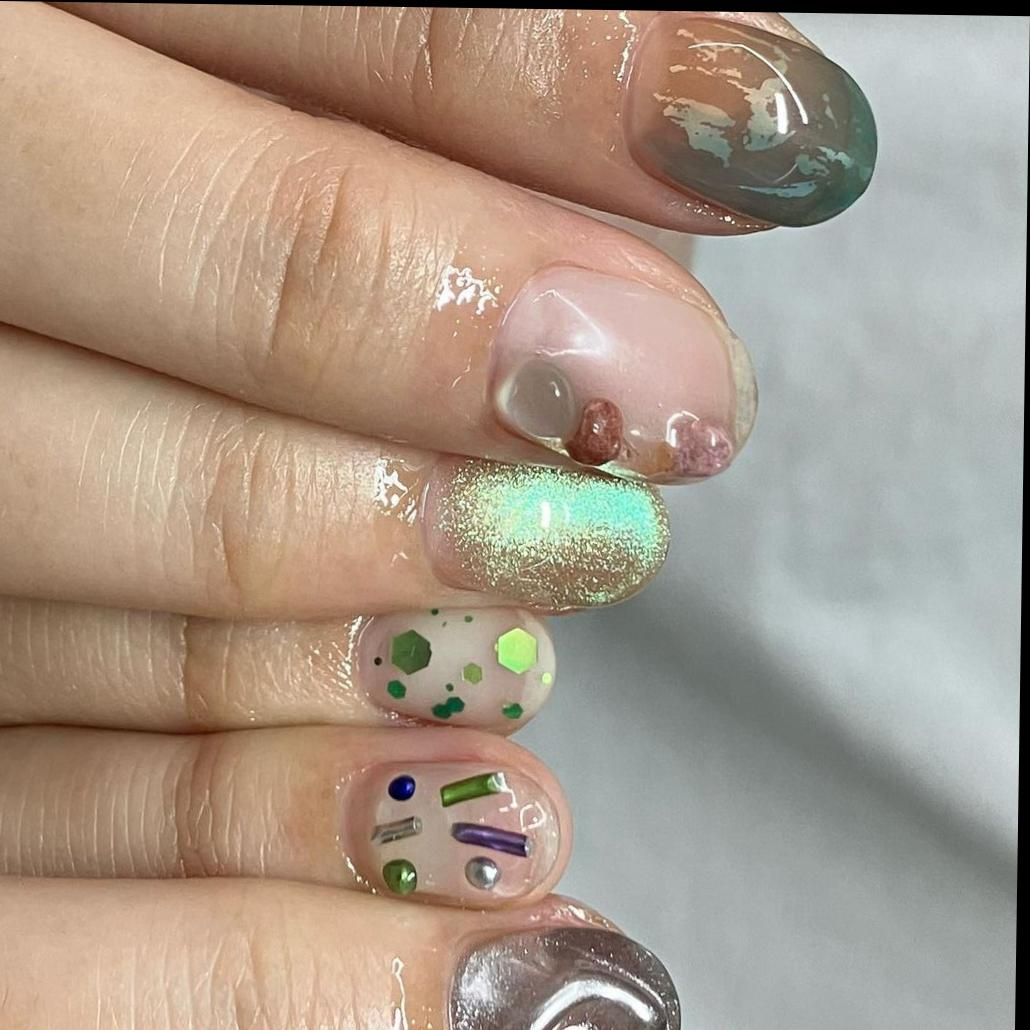nail: (487, 261, 760, 487), (622, 9, 883, 231), (420, 454, 673, 615), (354, 603, 559, 737), (453, 822, 535, 858), (441, 771, 509, 808), (372, 816, 425, 846)
